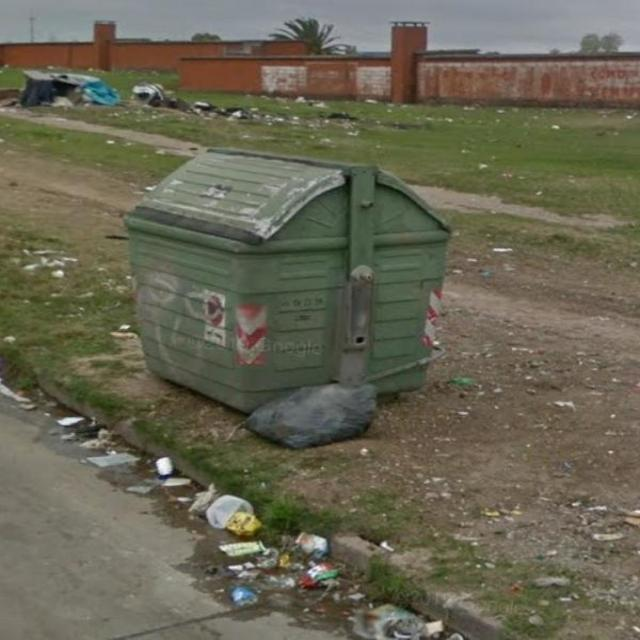garbage: (161, 466, 287, 557), (235, 377, 391, 449), (15, 64, 184, 120), (49, 414, 168, 470), (219, 552, 306, 624), (296, 603, 412, 639)
